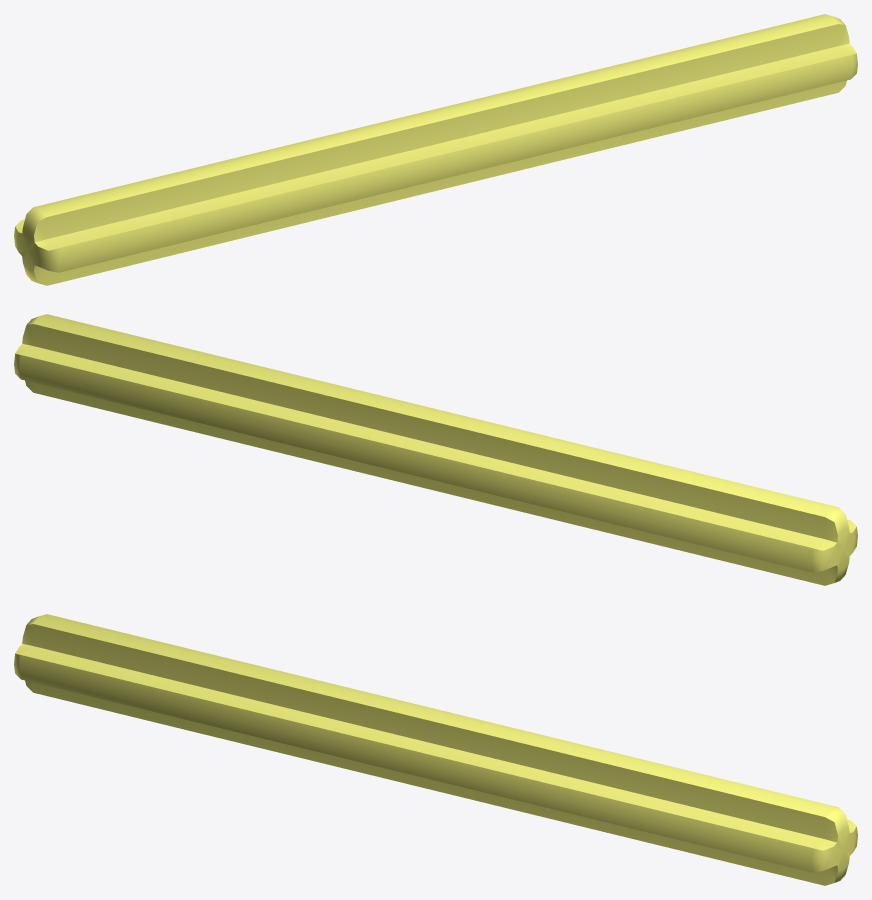
The picture shows the model from 3 angles, top to bottom: view 1: azimuth 30°, elevation 25°; view 2: azimuth 150°, elevation 25°; view 3: azimuth 330°, elevation 25°; orthographic projection.
Parts seen in each view (by area): view 1: 44294.dat; view 2: 44294.dat; view 3: 44294.dat.
Part boxes in pixels (left/top/right/bottom): 44294.dat: left=14, top=14, right=857, bottom=285; 44294.dat: left=14, top=314, right=857, bottom=585; 44294.dat: left=14, top=614, right=857, bottom=885.
Size of the model in its own units: 0.0556 by 0.0048 by 0.0048.
